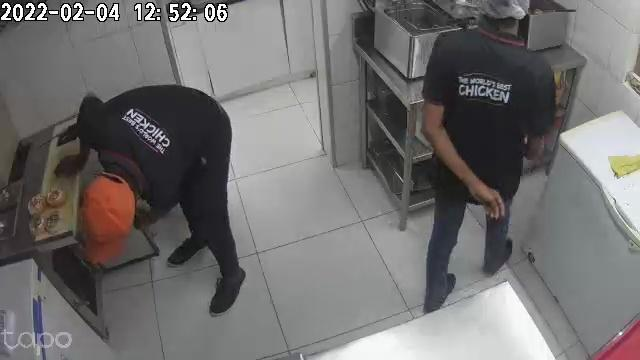no_gloves: (463, 169, 505, 220)
